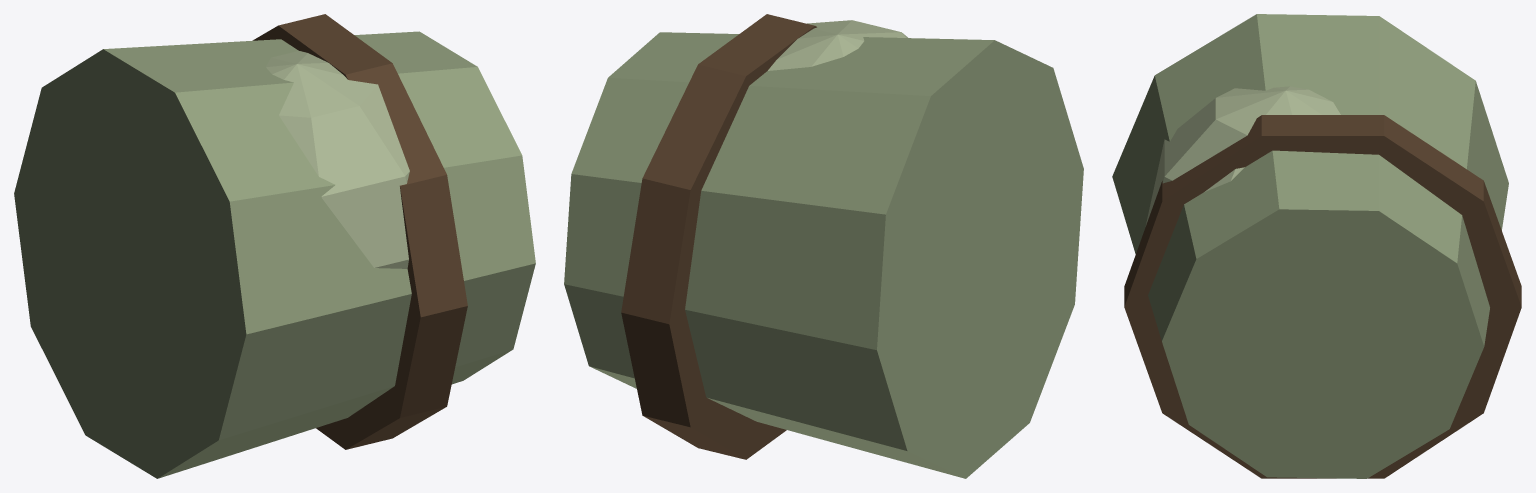
Rendered from stonebrow_arm_l.glb.
3 renders of one model, left to right at view 1: azimuth 30°, elevation 25°; view 2: azimuth 150°, elevation 25°; view 3: azimuth 270°, elevation 25°, orthographic. The views are drawn at different scales.
Parts seen in each view (by area): view 1: stonebrow_arm_l; view 2: stonebrow_arm_l; view 3: stonebrow_arm_l.
Boxes of the visible parts, x1,y1,x2,y2 form: stonebrow_arm_l: (14,14,535,478); stonebrow_arm_l: (564,14,1083,478); stonebrow_arm_l: (1112,14,1521,478).
Bounding box in the file's own units: 0.2935 × 0.3256 × 0.3298.
